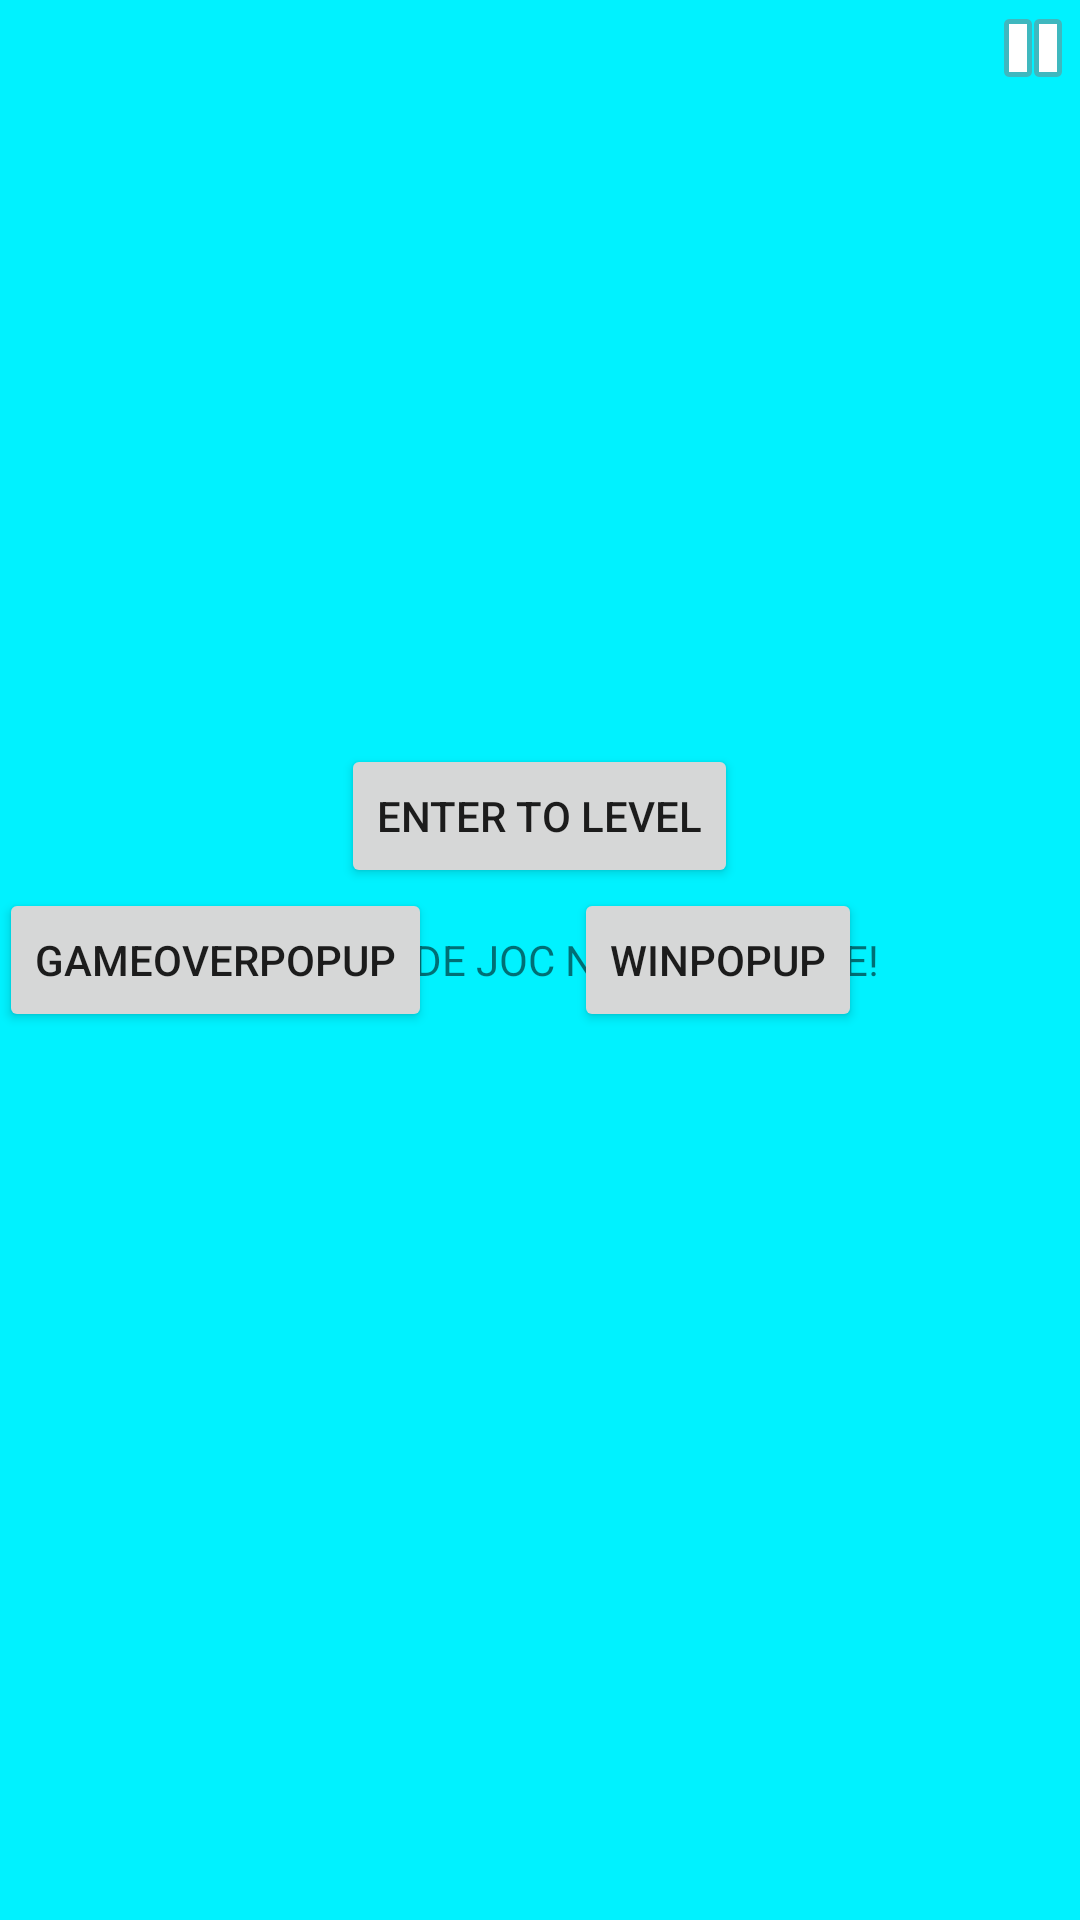

Where icons sit on this 1080*1920 app screen, as detection(x1, y1, x2, y2):
pause: detection(1004, 19, 1062, 77)
